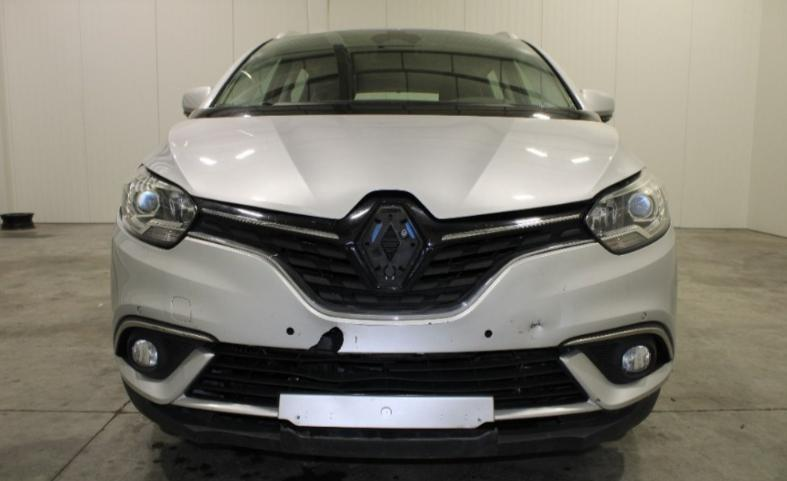Front-bumper: (110, 211, 678, 459)
Grille: (187, 191, 598, 321)
Headlight: (584, 168, 670, 255), (118, 164, 199, 249)
Hood: (142, 114, 646, 220)
Mirror: (580, 90, 615, 123), (182, 86, 213, 117)
Roof: (260, 27, 520, 42)
Windshield: (202, 29, 583, 120)
